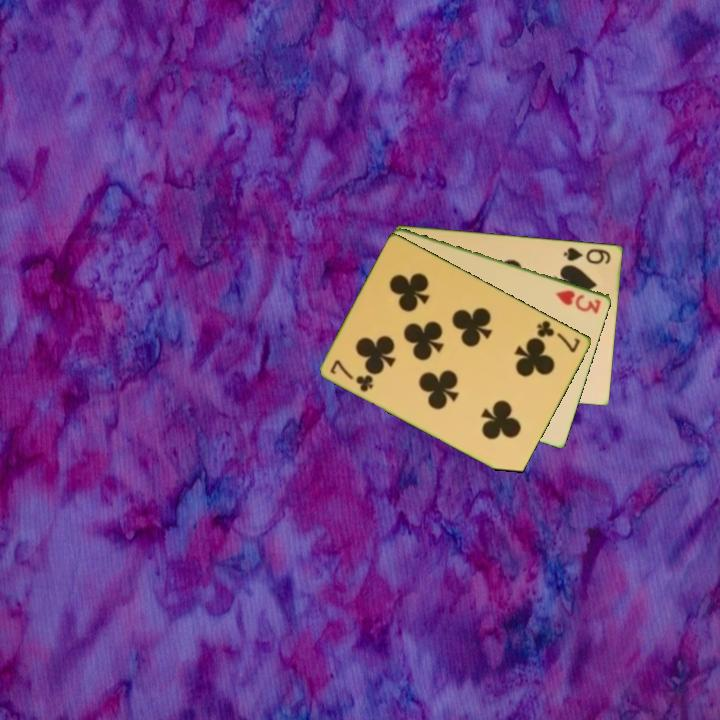3h: (552, 286, 604, 316)
6s: (560, 244, 614, 267)
7c: (327, 356, 377, 395), (533, 317, 584, 355)
